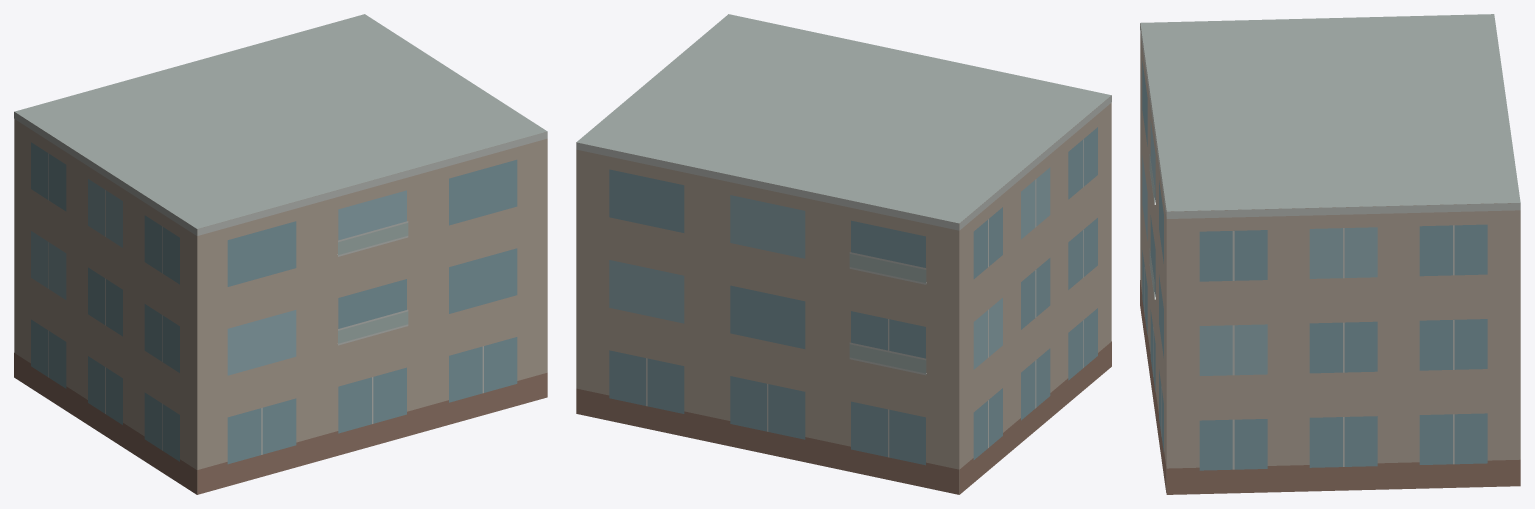
The model's file is survey-upis-32802245.glb.
3 views of the same model, side by side, from view 1: azimuth 30°, elevation 25°; view 2: azimuth 150°, elevation 25°; view 3: azimuth 270°, elevation 25° (orthographic). The views are drawn at different scales.
Parts seen in each view (by area): view 1: survey-upis-32802245.tmp; view 2: survey-upis-32802245.tmp; view 3: survey-upis-32802245.tmp.
Part boxes in pixels (x1,y1,x2,y2): survey-upis-32802245.tmp: [14, 14, 547, 494]; survey-upis-32802245.tmp: [576, 14, 1111, 494]; survey-upis-32802245.tmp: [1140, 14, 1520, 494].
Size of the model in its own units: 13.69 by 9.15 by 11.14.
